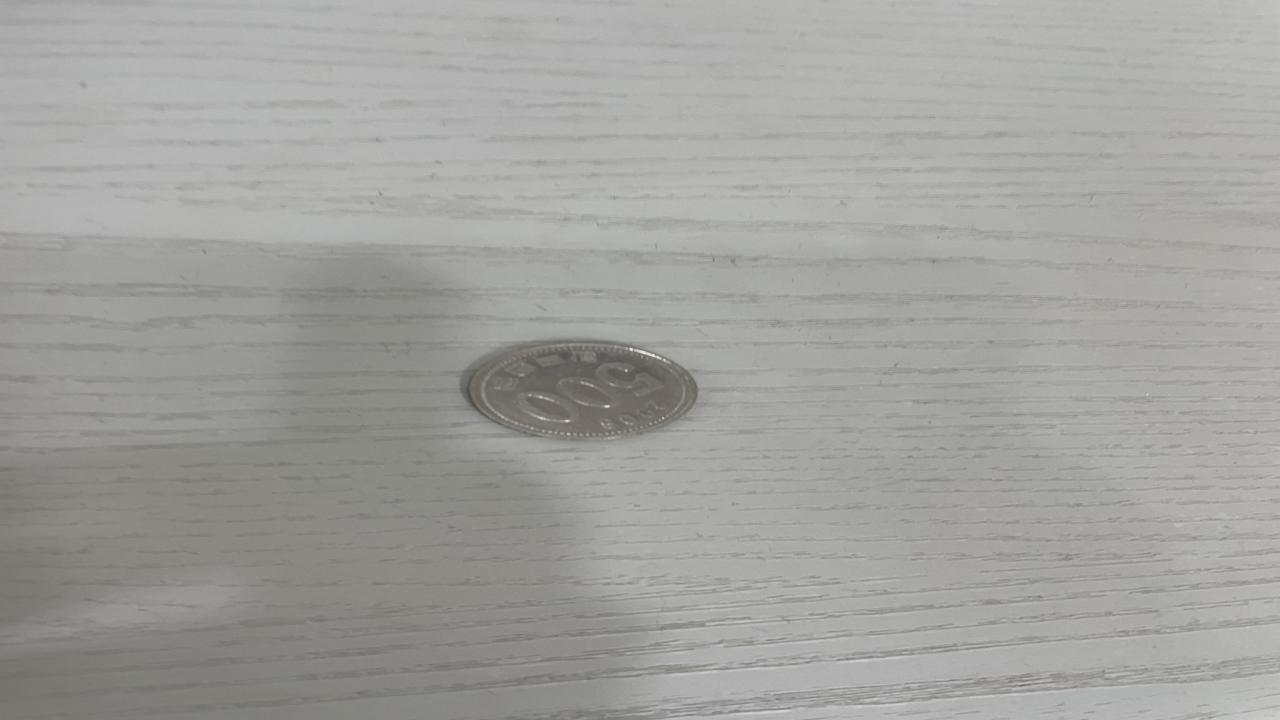coin: (458, 339, 710, 441)
